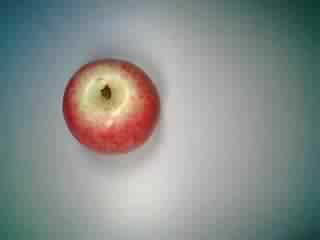apple: (59, 54, 163, 158)
